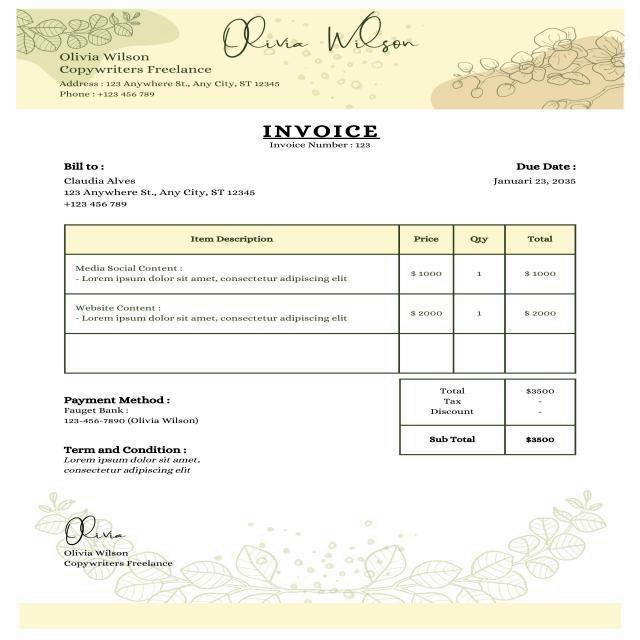paragraph: (396, 378, 576, 454), (56, 49, 286, 100), (64, 161, 264, 213), (215, 19, 419, 59), (61, 516, 174, 576), (255, 119, 401, 160), (61, 439, 203, 481), (65, 396, 199, 433), (489, 156, 584, 192)
table: (63, 228, 577, 336)
